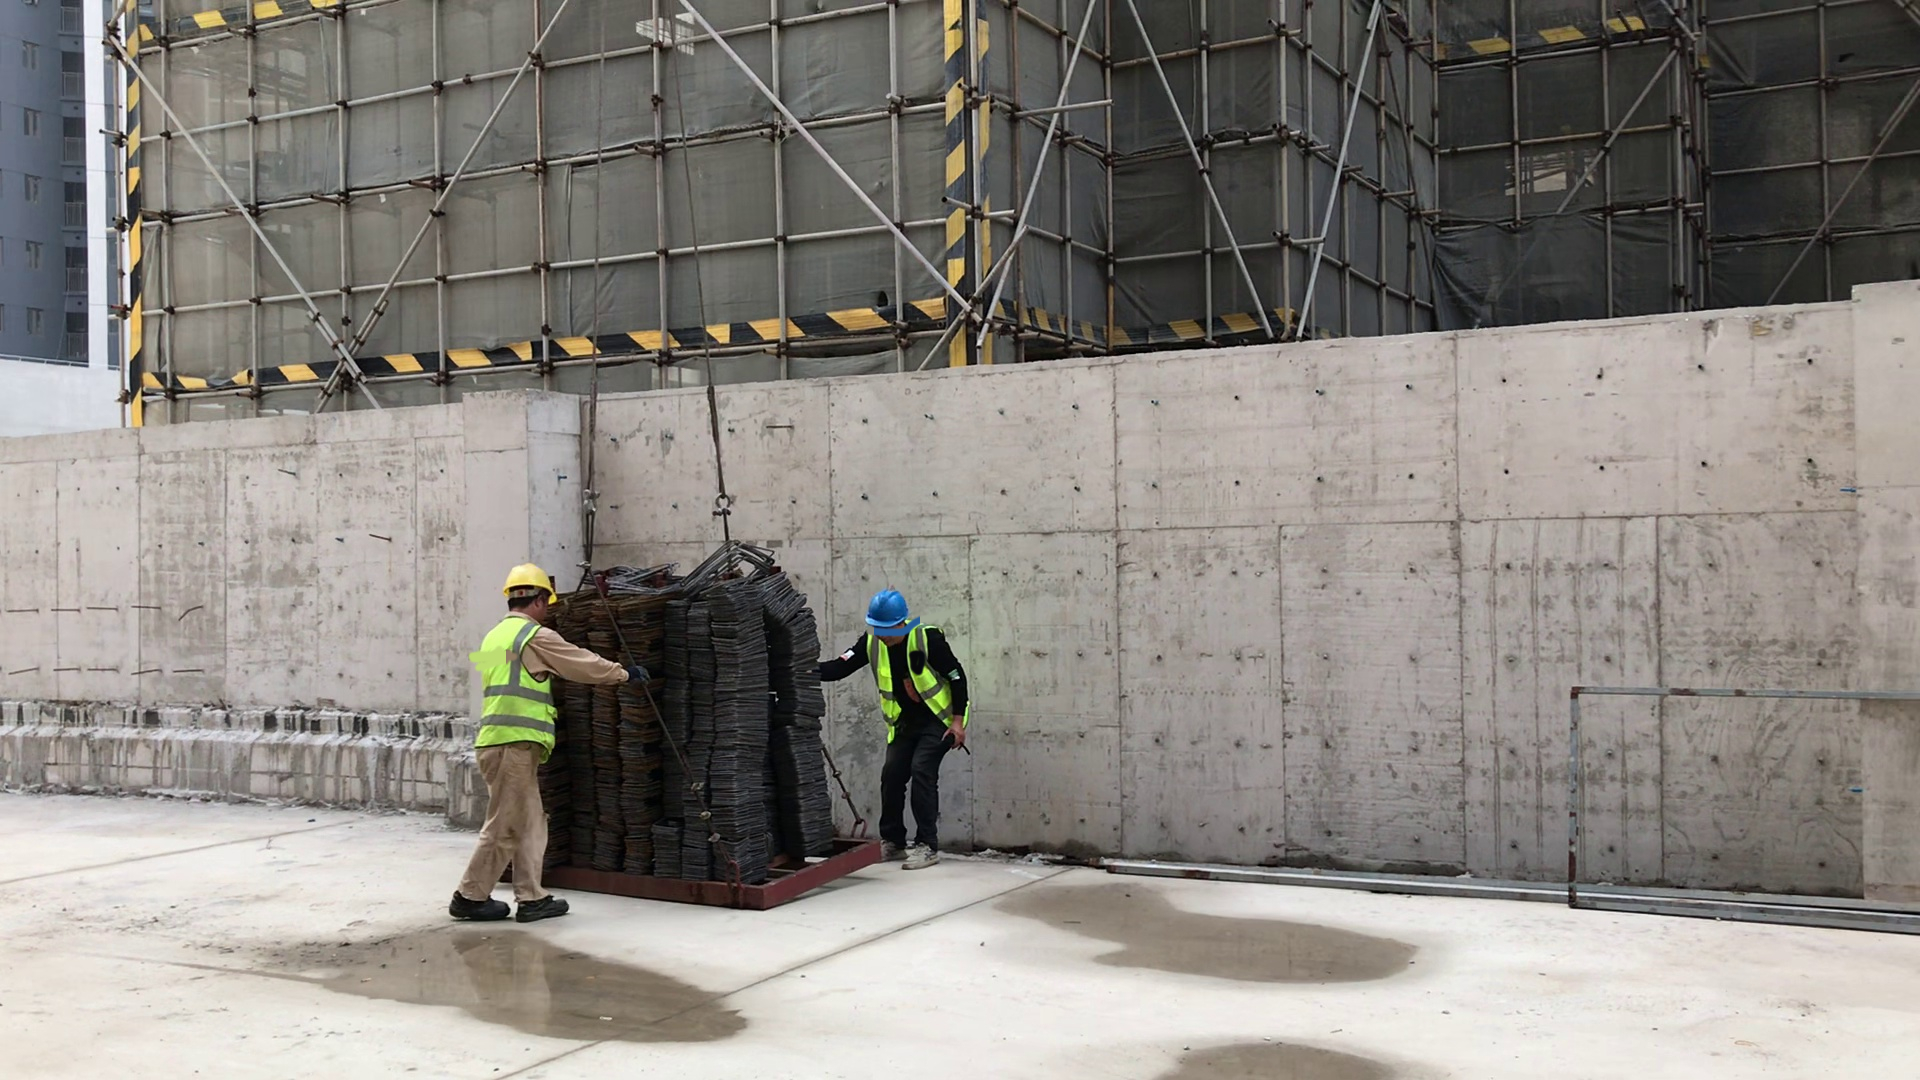helmet: (505, 549, 564, 606), (863, 587, 921, 642)
person: (439, 574, 597, 953), (853, 592, 966, 853)
vest: (861, 639, 974, 732), (476, 626, 563, 745)
